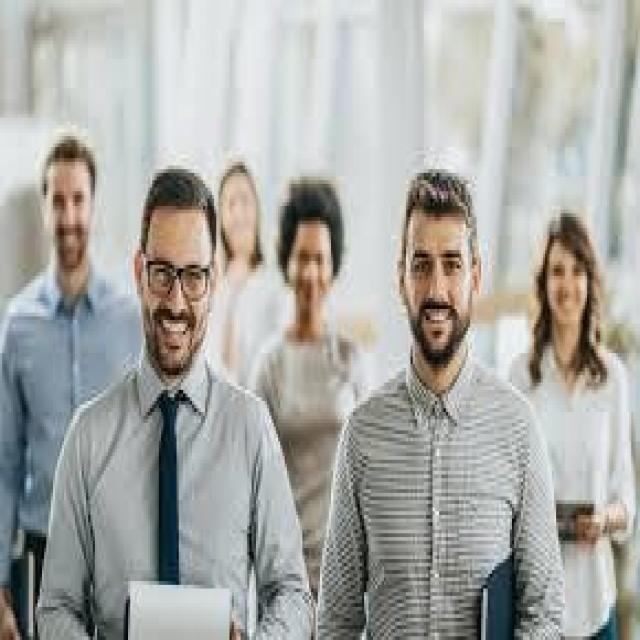person: (90, 158, 296, 636), (347, 144, 528, 636), (474, 188, 638, 629), (7, 103, 128, 596), (264, 165, 380, 562), (174, 128, 294, 382)
